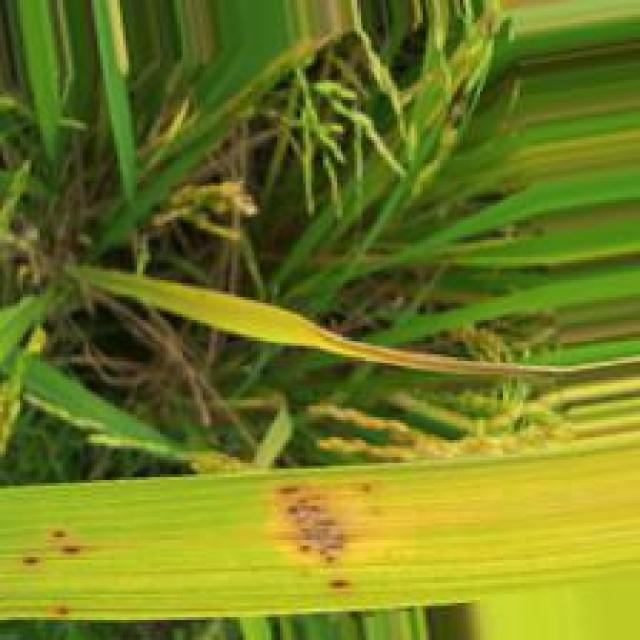Narrow_Brown_Leaf_Spot: (258, 477, 386, 597), (17, 516, 91, 575), (49, 602, 72, 618)
